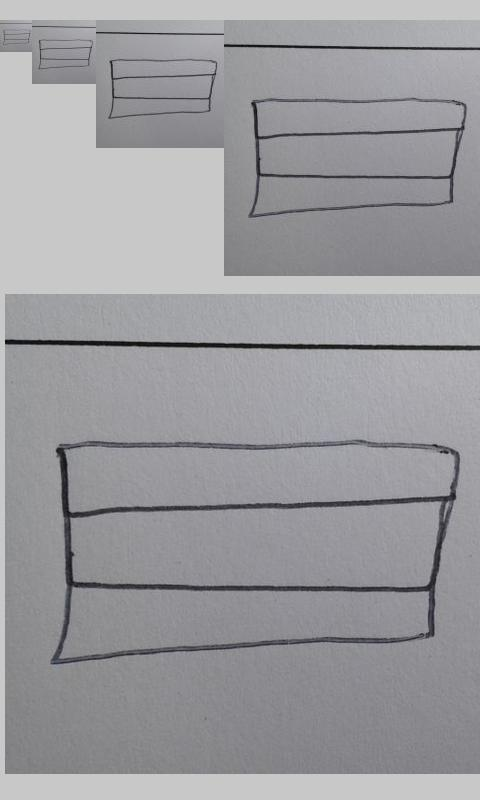list_view: (48, 435, 462, 668), (247, 94, 468, 222), (109, 58, 218, 118), (37, 38, 93, 71), (3, 27, 30, 46)
